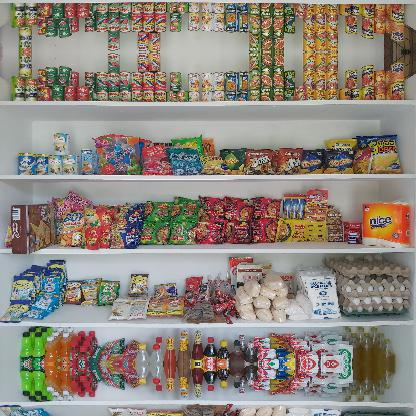Koko-Krunch: (9, 202, 60, 254)
